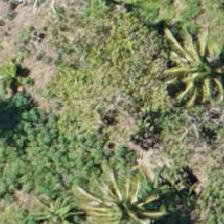coconut_tree: (148, 21, 223, 111), (76, 168, 166, 223)
